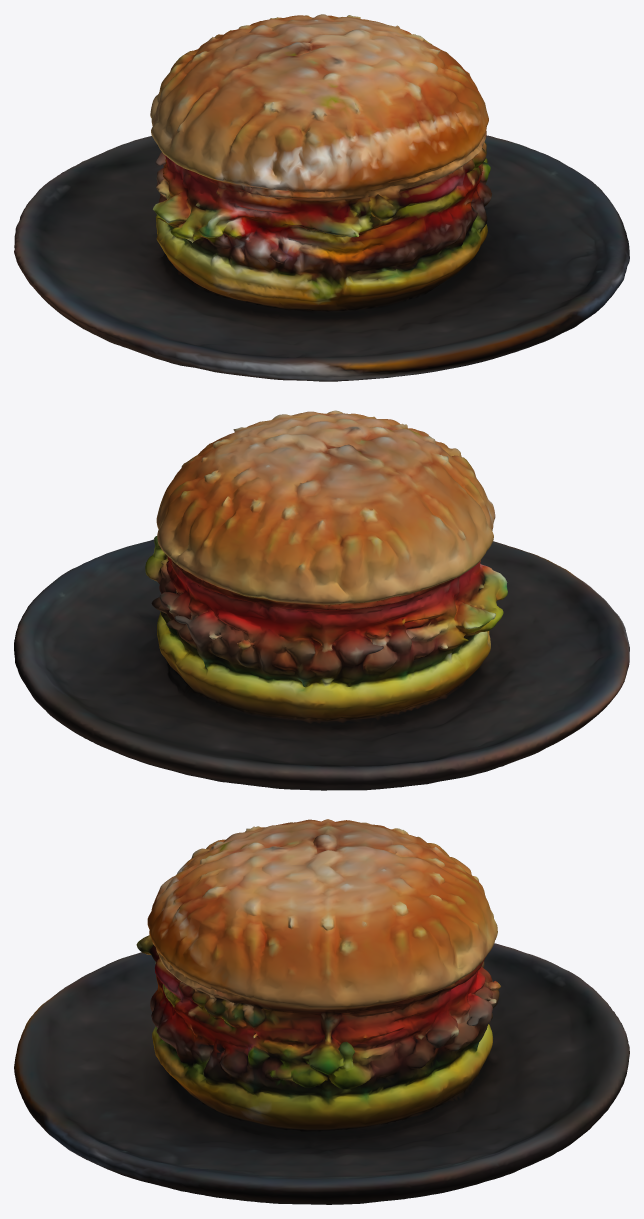
File: object-hamburger.glb
3 views of the same model, one above another, from view 1: azimuth 30°, elevation 25°; view 2: azimuth 150°, elevation 25°; view 3: azimuth 270°, elevation 25° (orthographic). The views are drawn at different scales.
Parts seen in each view (by area): view 1: Modelado; view 2: Modelado; view 3: Modelado.
Boxes of the visible parts, x1,y1,x2,y2 form: Modelado: (14,14,629,381); Modelado: (14,410,629,790); Modelado: (14,819,629,1204).
Size of the model in its own units: 0.9238 by 0.4115 by 0.905.
